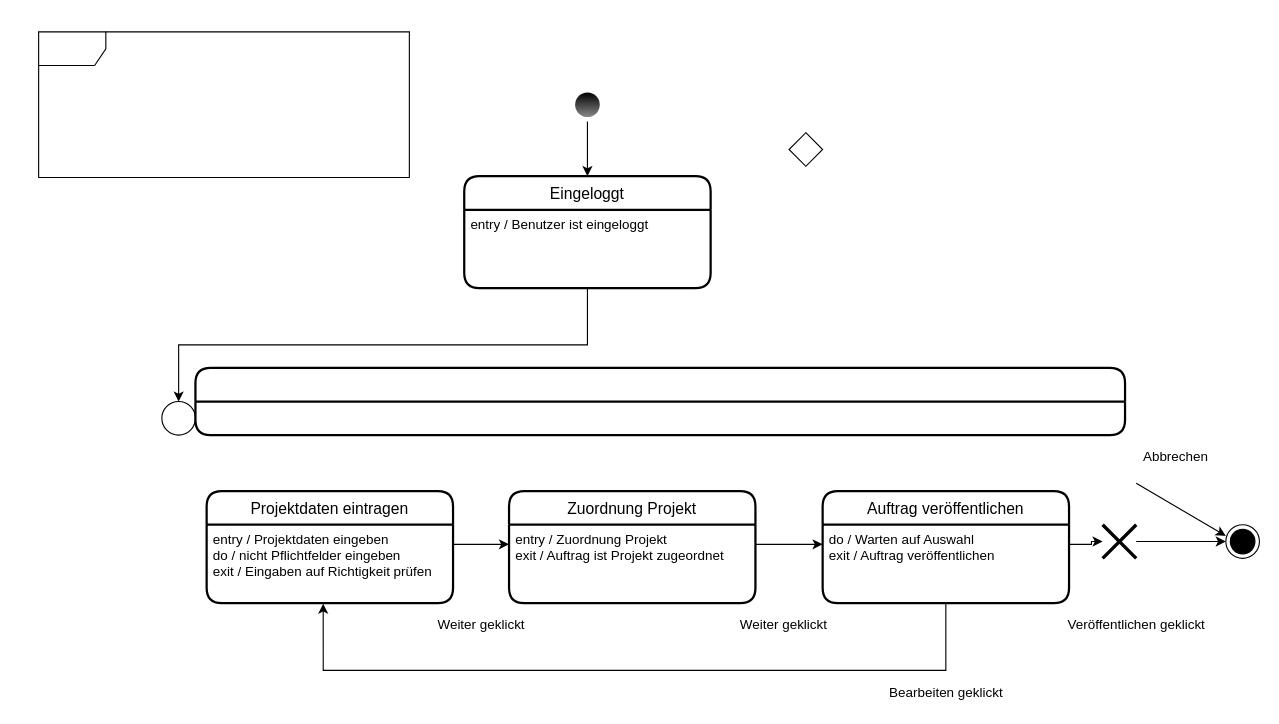
Some shapes in this 1279 by 724 pixel diagram are drawn without their labels. The centre of each missing label's shape, as x and y in pixels:
Auftrag erstellen& veröffentlichen: the point at 223,104
Auftrags Vorlage: the point at 660,401
